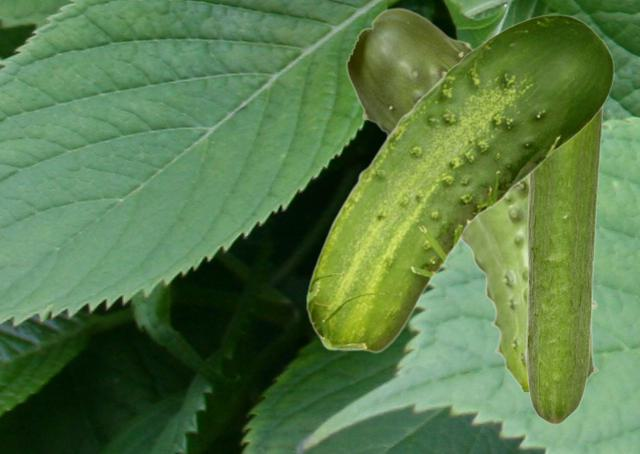cucumber: (305, 14, 613, 352), (345, 7, 598, 390), (525, 109, 602, 424)
